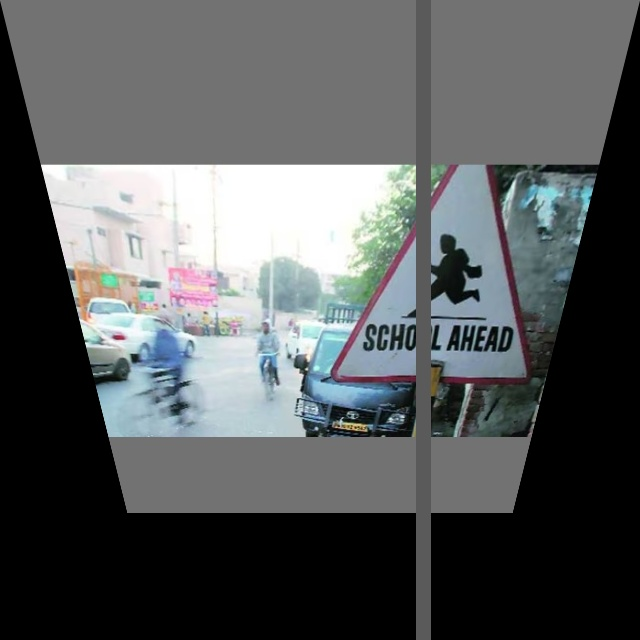School_Ahead: (351, 191, 559, 367)
